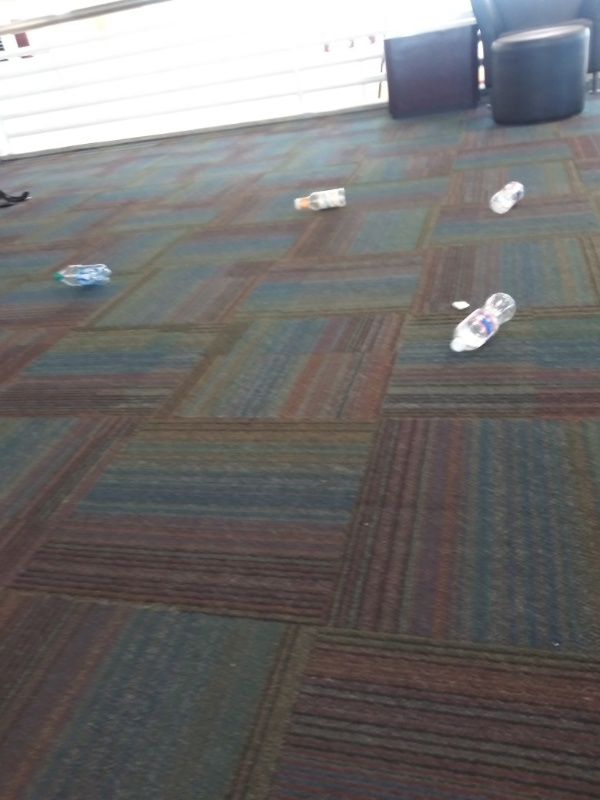bottle: (447, 289, 520, 357), (49, 259, 115, 292), (290, 183, 349, 216), (486, 178, 531, 218)
